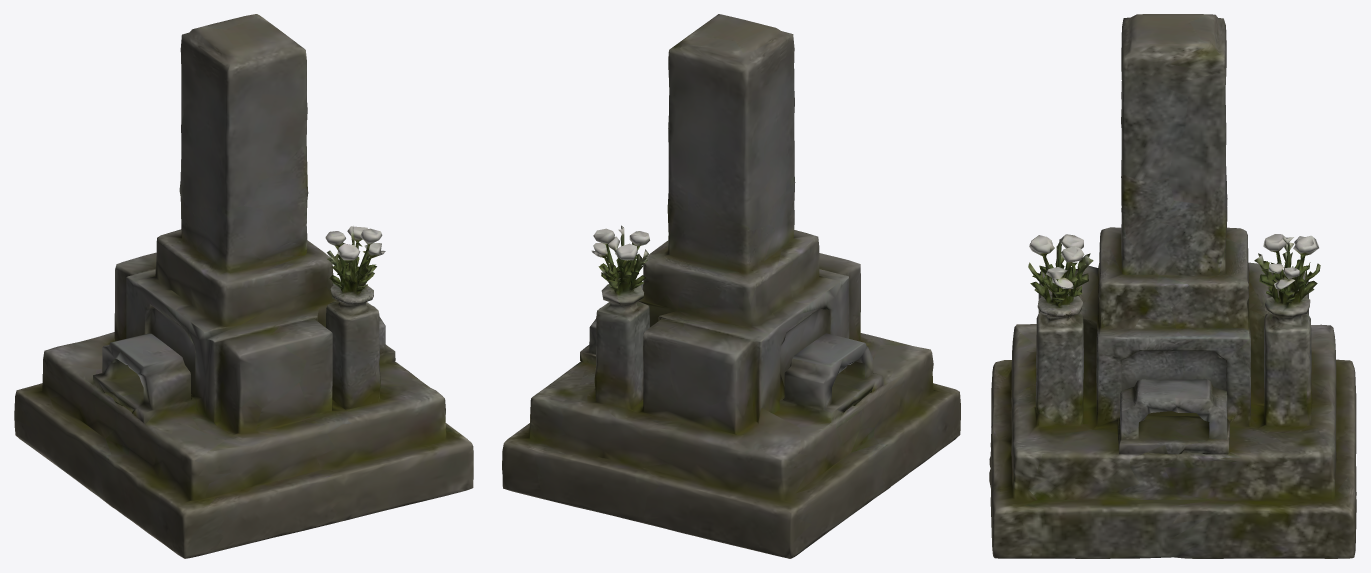
File: gravestone.glb
The picture shows the model from 3 angles, left to right: view 1: azimuth 30°, elevation 25°; view 2: azimuth 150°, elevation 25°; view 3: azimuth 270°, elevation 25°; orthographic projection. The views are drawn at different scales.
Parts seen in each view (by area): view 1: tripo_node_e88cb0d0-a29d-4118-ac07-bf71d8eaea97; view 2: tripo_node_e88cb0d0-a29d-4118-ac07-bf71d8eaea97; view 3: tripo_node_e88cb0d0-a29d-4118-ac07-bf71d8eaea97.
Boxes of the visible parts, x1,y1,x2,y2 form: tripo_node_e88cb0d0-a29d-4118-ac07-bf71d8eaea97: (14, 14, 473, 558); tripo_node_e88cb0d0-a29d-4118-ac07-bf71d8eaea97: (502, 14, 960, 558); tripo_node_e88cb0d0-a29d-4118-ac07-bf71d8eaea97: (989, 14, 1356, 558).
Size of the model in its own units: 0.7116 by 1 by 0.727.
1 material, 1 textured.
